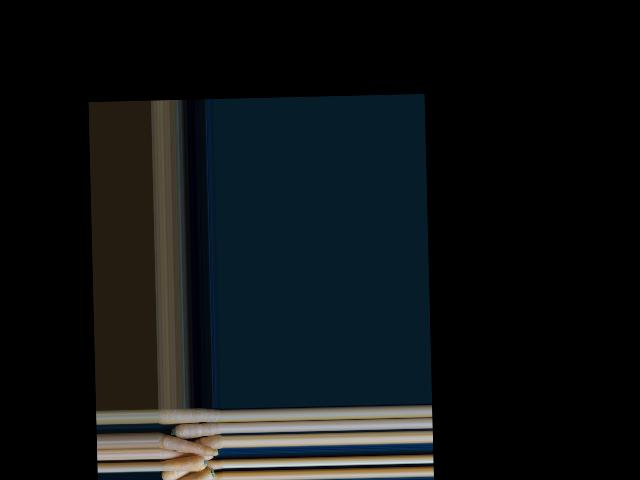carrot: (160, 408, 223, 424)
